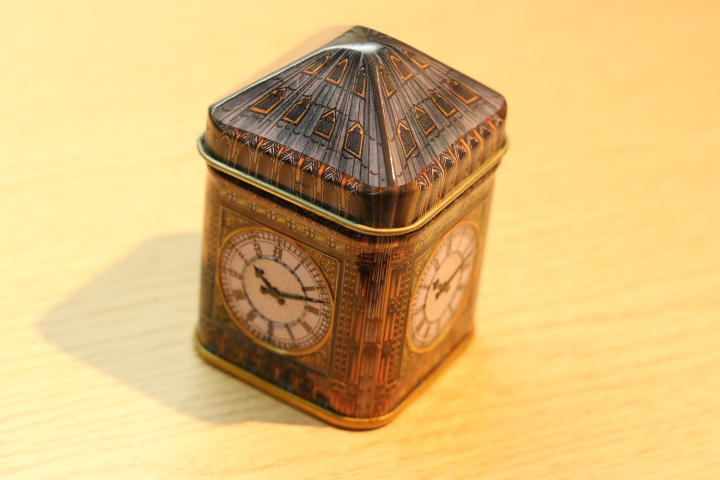Big Ben: (182, 10, 525, 457)
